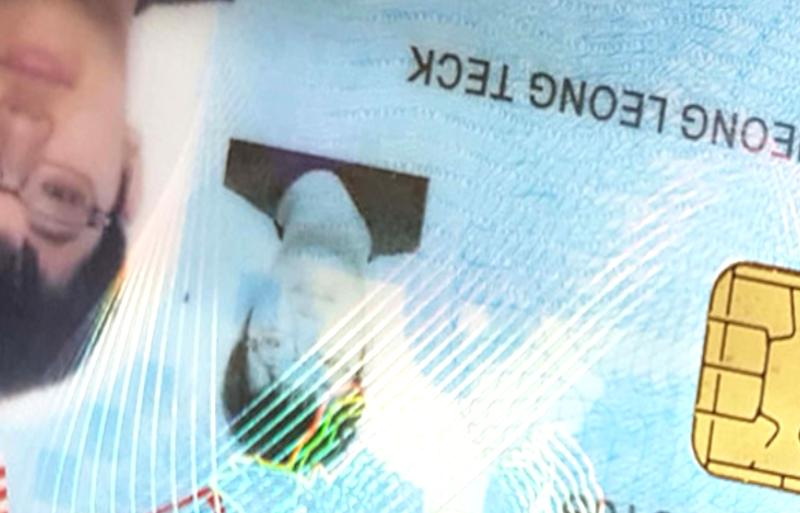hologram: (418, 138, 675, 395)
